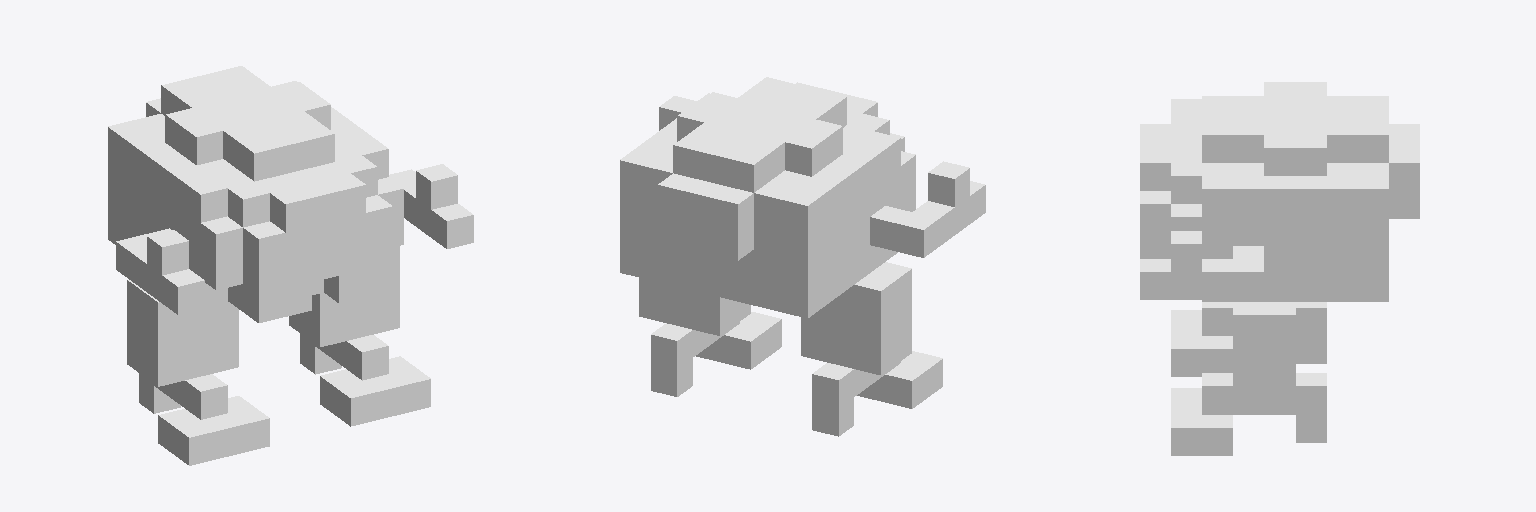
Rendered from robot.obj.
The picture shows the model from 3 angles: view 1: azimuth 30°, elevation 25°; view 2: azimuth 150°, elevation 25°; view 3: azimuth 270°, elevation 25°; orthographic projection.
Bounding box in the file's own units: 11 × 10 × 9.